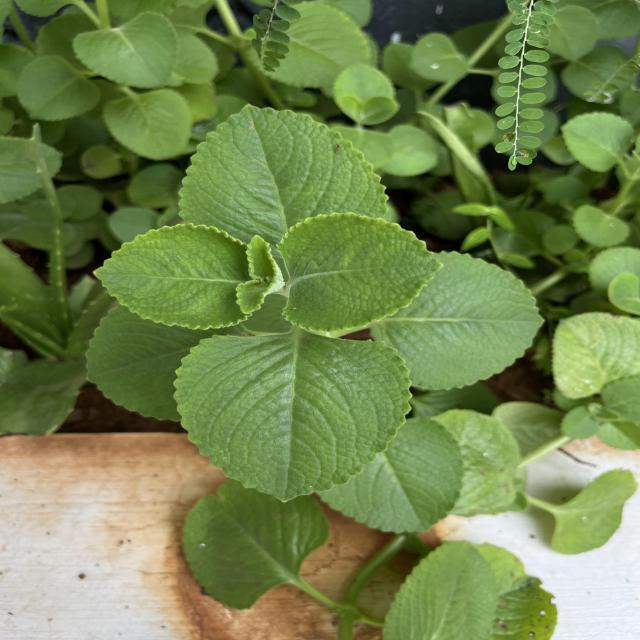Plectranthus barbatus: (172, 332, 416, 505), (176, 101, 392, 226), (371, 250, 548, 392), (181, 477, 334, 612), (276, 211, 444, 333), (90, 220, 264, 332), (314, 414, 466, 534), (72, 11, 182, 91), (544, 466, 640, 556), (101, 88, 193, 161), (14, 55, 104, 123), (558, 110, 635, 174), (408, 32, 470, 82)
